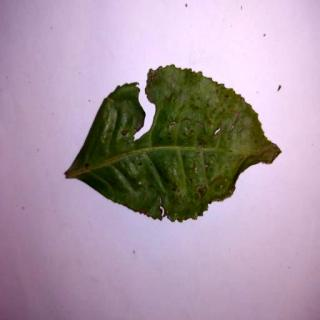Bird Eye Spot: (66, 64, 283, 224)
